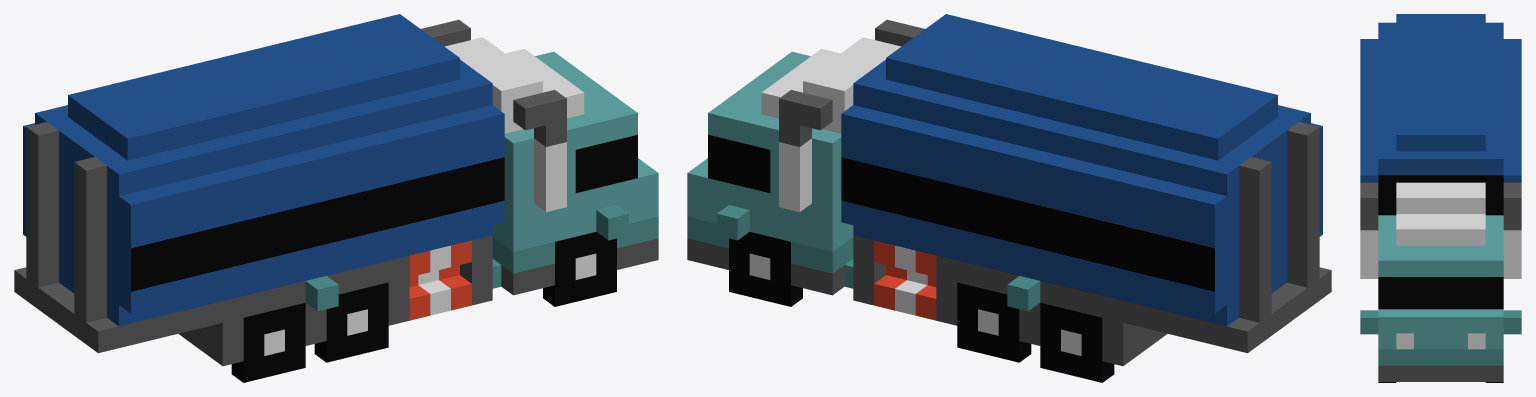
The model's file is Truck_Garbage.fbx.
3 renders of one model, left to right at view 1: azimuth 30°, elevation 25°; view 2: azimuth 150°, elevation 25°; view 3: azimuth 270°, elevation 25°, orthographic. The views are drawn at different scales.
Visible parts, largest first — view 1: Garbage_Load, Garbage_Body, Truck_Exhaust, Garbage_Top, Garbage_Tire_05, Garbage_Tire_03, Garbage_Tire_02, Truck_Mirrors02, Truck_Mirrors01; view 2: Garbage_Load, Garbage_Body, Truck_Exhaust, Garbage_Top, Garbage_Tire_06, Garbage_Tire_04, Garbage_Tire_01, Truck_Mirrors02, Truck_Mirrors01; view 3: Garbage_Load, Garbage_Body, Garbage_Top, Truck_Exhaust, Truck_Mirrors01.
Boxes of the visible parts, x1,y1,x2,y2 form: Garbage_Load: [23, 14, 504, 326]; Garbage_Body: [14, 51, 658, 365]; Truck_Exhaust: [421, 19, 566, 211]; Garbage_Top: [444, 37, 584, 133]; Garbage_Tire_05: [231, 302, 305, 382]; Garbage_Tire_03: [314, 282, 388, 362]; Garbage_Tire_02: [543, 231, 616, 306]; Truck_Mirrors02: [305, 276, 338, 311]; Truck_Mirrors01: [596, 205, 628, 240]; Garbage_Load: [841, 14, 1322, 326]; Garbage_Body: [687, 51, 1331, 365]; Truck_Exhaust: [779, 19, 924, 211]; Garbage_Top: [761, 37, 901, 133]; Garbage_Tire_06: [1040, 302, 1114, 382]; Garbage_Tire_04: [957, 282, 1031, 362]; Garbage_Tire_01: [729, 231, 802, 306]; Truck_Mirrors02: [1007, 276, 1040, 311]; Truck_Mirrors01: [717, 205, 749, 240]; Garbage_Load: [1360, 14, 1521, 215]; Garbage_Body: [1378, 215, 1503, 381]; Garbage_Top: [1396, 182, 1485, 245]; Truck_Exhaust: [1360, 182, 1521, 278]; Truck_Mirrors01: [1360, 310, 1521, 334].
Bounding box in the file's own units: 27 × 12 × 9.
